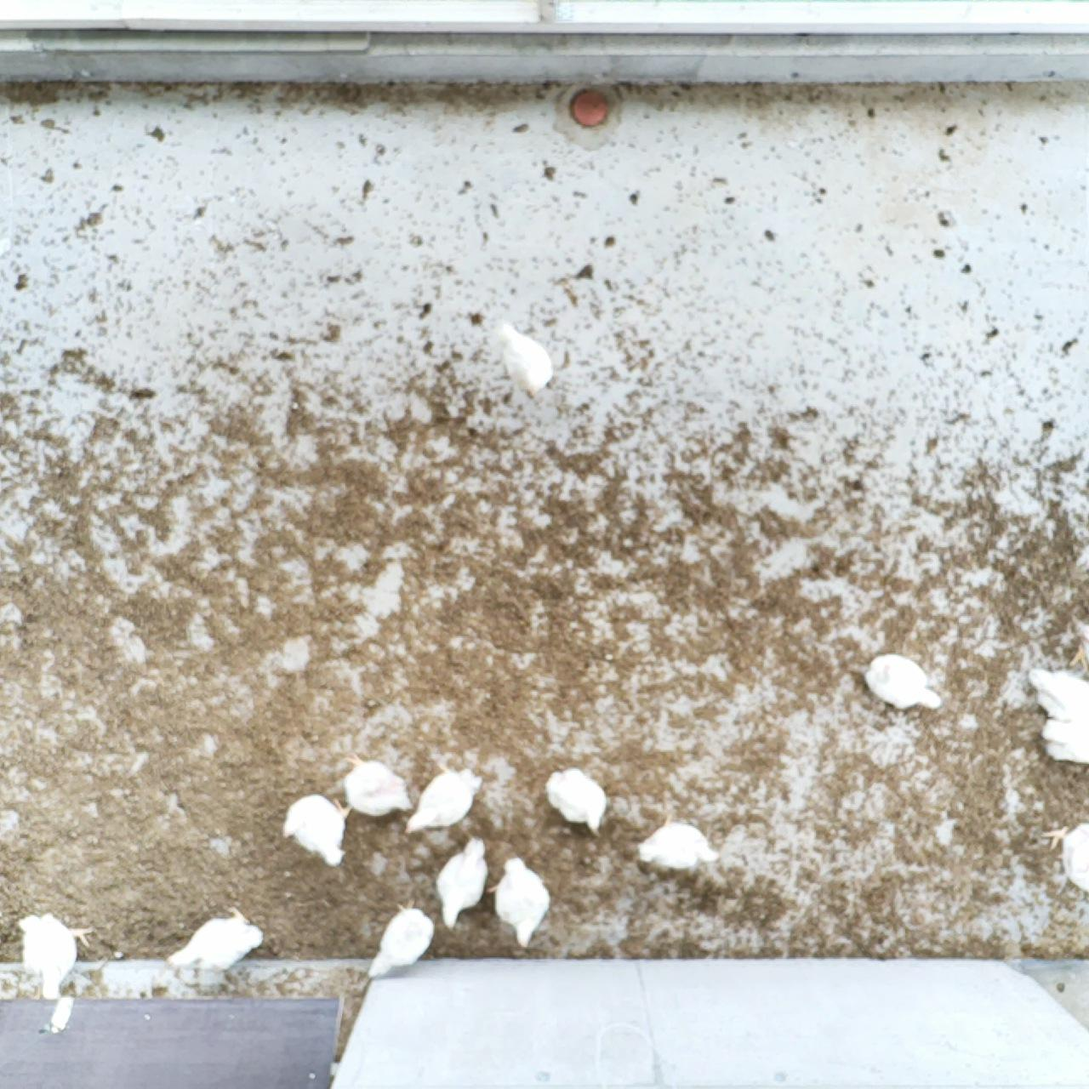chicken: (162, 903, 266, 993), (14, 907, 96, 1005), (481, 854, 555, 950), (1021, 664, 1089, 766), (365, 899, 439, 985), (400, 763, 483, 835), (851, 651, 944, 713), (434, 833, 492, 932), (281, 792, 354, 869), (632, 816, 723, 875), (490, 316, 553, 399), (339, 750, 414, 819), (543, 765, 610, 839), (1039, 815, 1089, 900)
